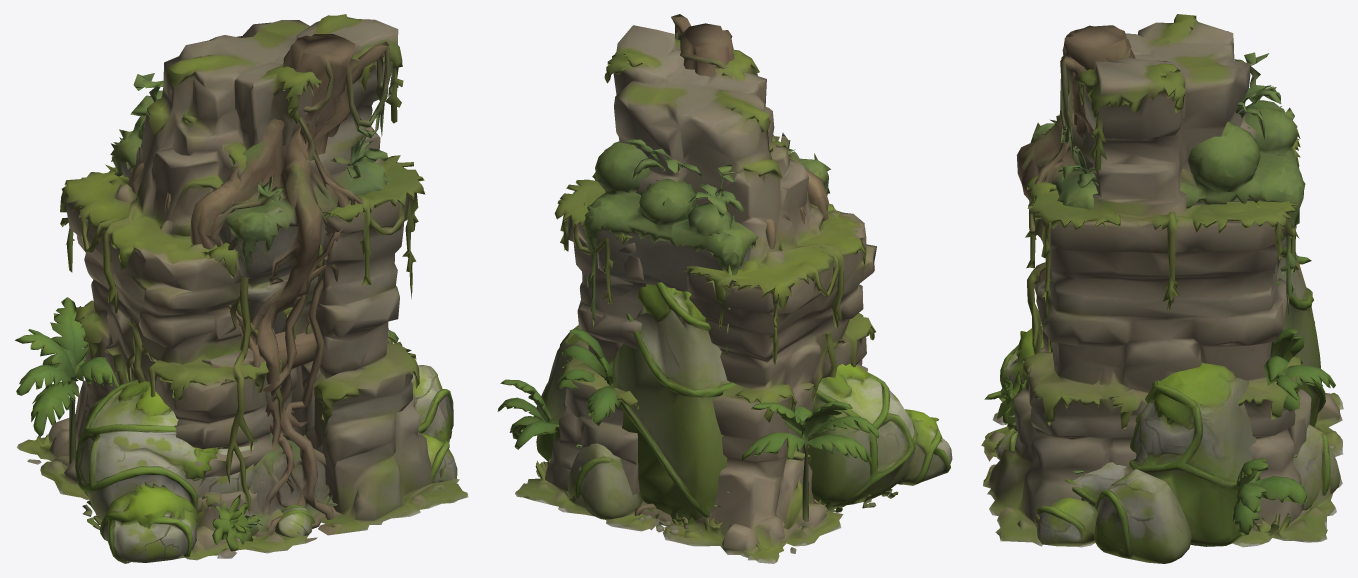
The model's file is penhascos.glb.
3 renders of one model, left to right at view 1: azimuth 30°, elevation 25°; view 2: azimuth 150°, elevation 25°; view 3: azimuth 270°, elevation 25°, orthographic. The views are drawn at different scales.
Parts seen in each view (by area): view 1: falesia, penhasco_raizes, blocos_musgo; view 2: falesia, blocos_musgo, penhasco_raizes; view 3: falesia, blocos_musgo, penhasco_raizes.
Part boxes in pixels (x1,y1,x2,y2): falesia: [17, 14, 468, 560]; penhasco_raizes: [54, 34, 391, 543]; blocos_musgo: [15, 297, 457, 563]; falesia: [515, 25, 876, 563]; blocos_musgo: [497, 282, 952, 534]; penhasco_raizes: [565, 14, 830, 542]; falesia: [981, 14, 1343, 547]; blocos_musgo: [984, 244, 1340, 563]; penhasco_raizes: [1009, 25, 1307, 514].
Size of the model in its own units: 0.9447 by 1 by 0.7221.
3 materials, 3 textured.
